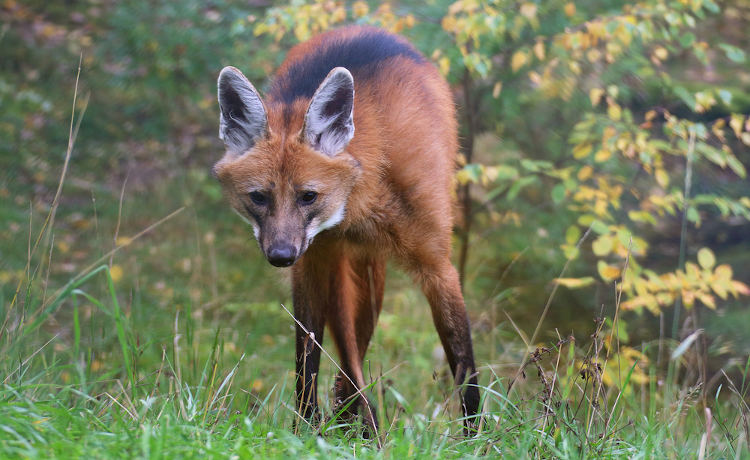LoboGuara: (197, 19, 509, 438)
